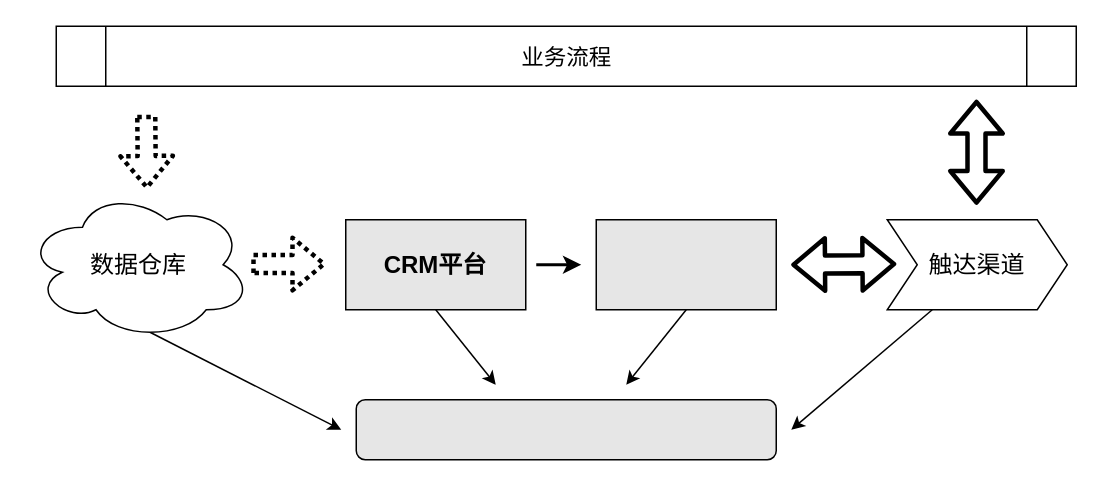
This 1103x486 diagram has some shape labels left out. Here are the shapes that lost their labels. From the top down, the centre of each, then its label:
(685,264): 策略平台
(565,429): 效果平台
